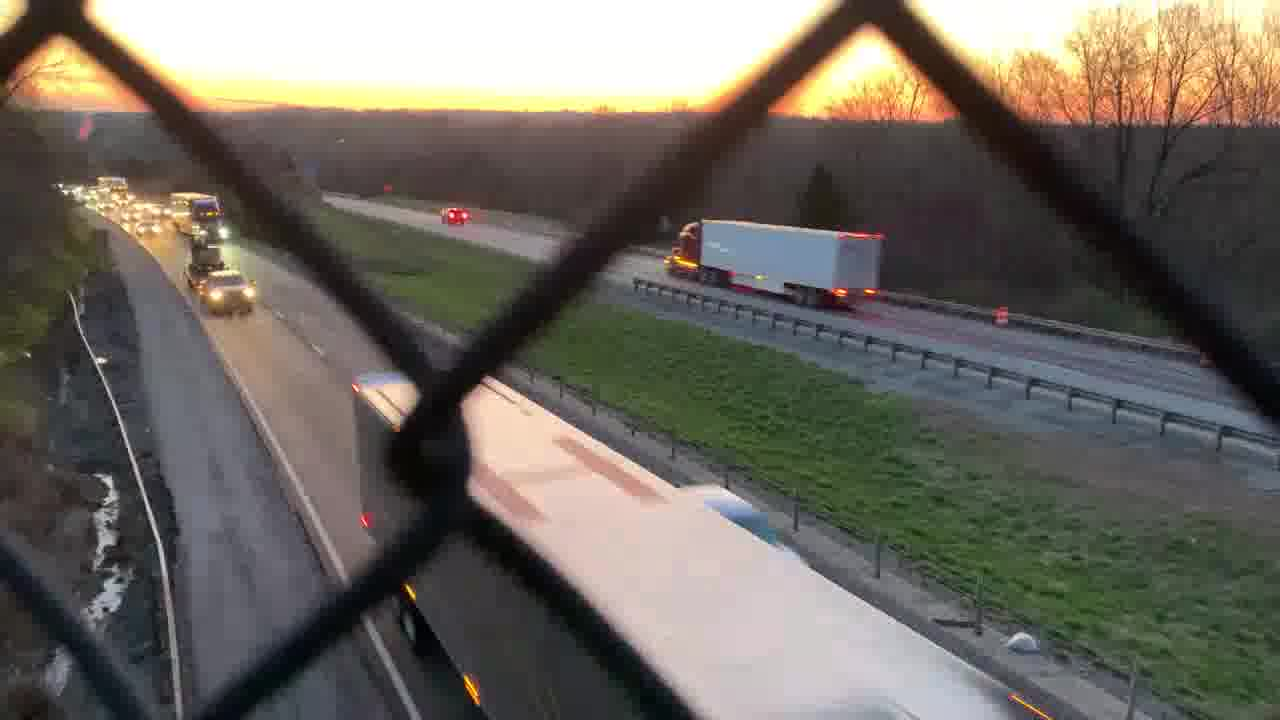heavyTruck: (346, 370, 1031, 720), (661, 216, 898, 304), (182, 237, 259, 314), (171, 192, 231, 239)
